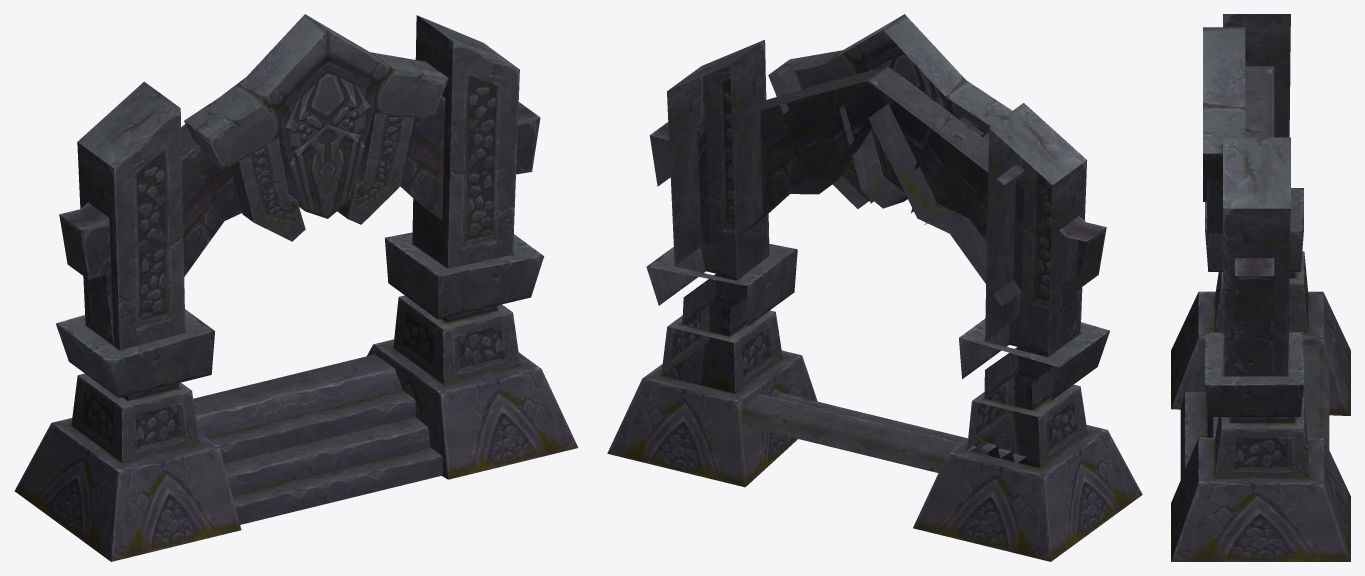
The model's file is building_underground_damen01.FBX.
The picture shows the model from 3 angles, left to right: view 1: azimuth 30°, elevation 25°; view 2: azimuth 150°, elevation 25°; view 3: azimuth 270°, elevation 25°; orthographic projection. The views are drawn at different scales.
Parts seen in each view (by area): view 1: building_underground_damen01; view 2: building_underground_damen01; view 3: building_underground_damen01.
Part boxes in pixels (x1,y1,x2,y2): building_underground_damen01: (14,14,578,561); building_underground_damen01: (607,14,1142,561); building_underground_damen01: (1171,14,1350,561).
Size of the model in its own units: 10.29 by 9.72 by 3.69.
